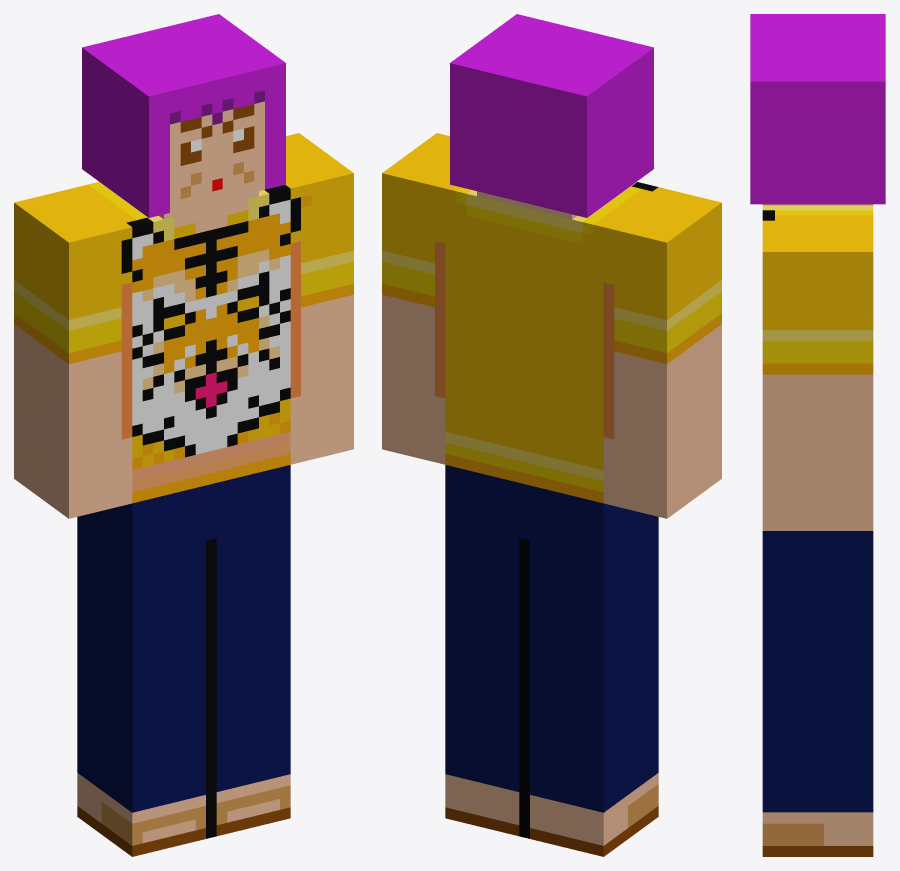
File: obasan.oko.obj
The picture shows the model from 3 angles, left to right: view 1: azimuth 30°, elevation 25°; view 2: azimuth 150°, elevation 25°; view 3: azimuth 270°, elevation 25°; orthographic projection.
Bounding box in the file's own units: 2.7 × 6.9 × 1.1.
Materials: 1 (1 with a texture image).
